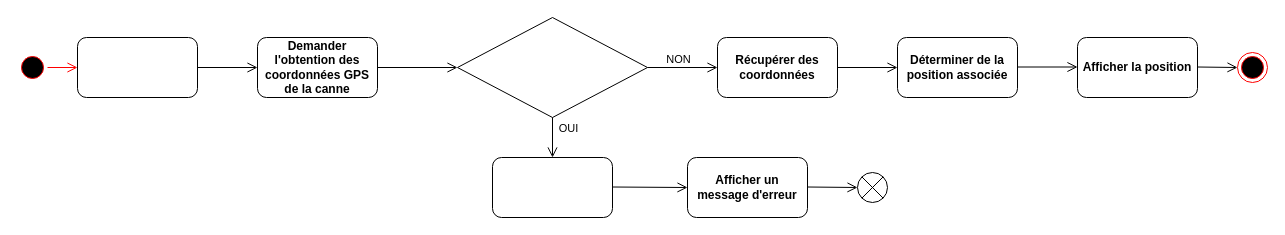
Some shapes in this 1285 by 235 pixel diagram are drawn without their labels. Each missing label, with the centre of its shape:
Abandonner la récupération: pixel 552 187
Demander l'obtention de la position GPS de la canne: pixel 137 67
now( ) - posData.time( ) > 90s ?: pixel 552 67
